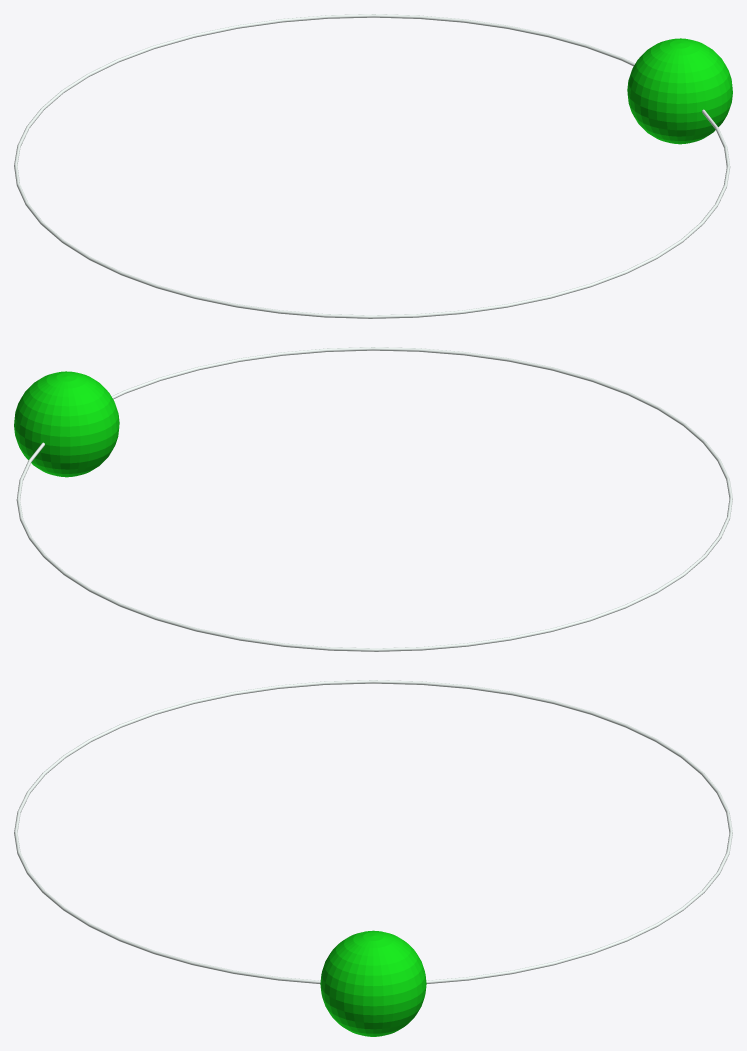
The model's file is planetsthree.glb.
The picture shows the model from 3 angles, top to bottom: view 1: azimuth 30°, elevation 25°; view 2: azimuth 150°, elevation 25°; view 3: azimuth 270°, elevation 25°; orthographic projection.
Parts seen in each view (by area): view 1: Sphere.001, BézierCircle.001; view 2: Sphere.001, BézierCircle.001; view 3: Sphere.001, BézierCircle.001.
Part boxes in pixels (box(x1,y1,x2,y2)): Sphere.001: box(627, 38, 732, 144); BézierCircle.001: box(14, 14, 730, 318); Sphere.001: box(14, 371, 119, 477); BézierCircle.001: box(16, 347, 732, 651); Sphere.001: box(320, 930, 426, 1036); BézierCircle.001: box(14, 680, 732, 983).
Size of the model in its own units: 5.03 by 0.6949 by 4.7.
